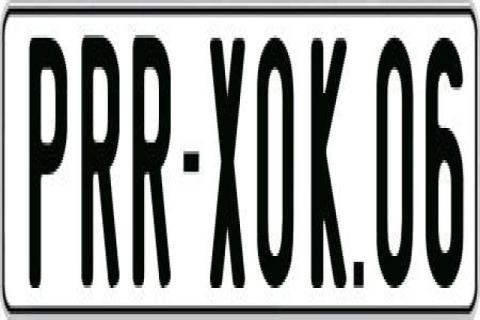0: (374, 32, 415, 296), (424, 35, 464, 285), (256, 35, 293, 297)
K: (308, 35, 346, 285)
P: (26, 29, 70, 288)
R: (78, 26, 124, 288), (132, 29, 174, 291)
X: (209, 38, 248, 288)
